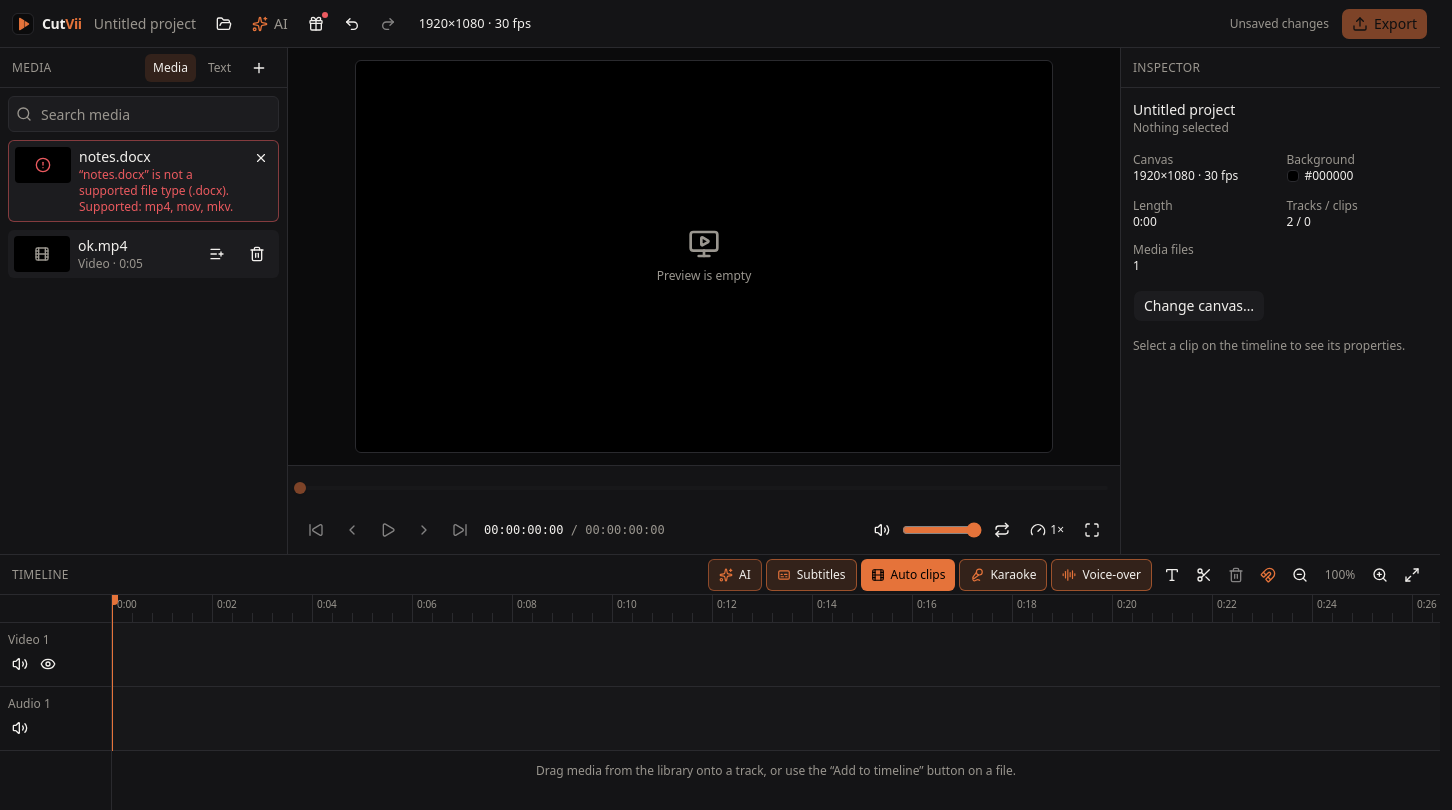
it: OS drag & drop into the library › explains unsupported files and keeps the rest of the drop going
Expected: the list item with test id "import-placeholder" shows "notes.docx", x1=79 y1=147 x2=151 y2=166
Expected: the list item with test id "import-placeholder" shows "is not a supported file type (.docx)", x1=79 y1=166 x2=233 y2=215
Step 1. Click the button named "Dismiss notes.docx" → [261, 158], box x1=250 y1=147 x2=272 y2=169
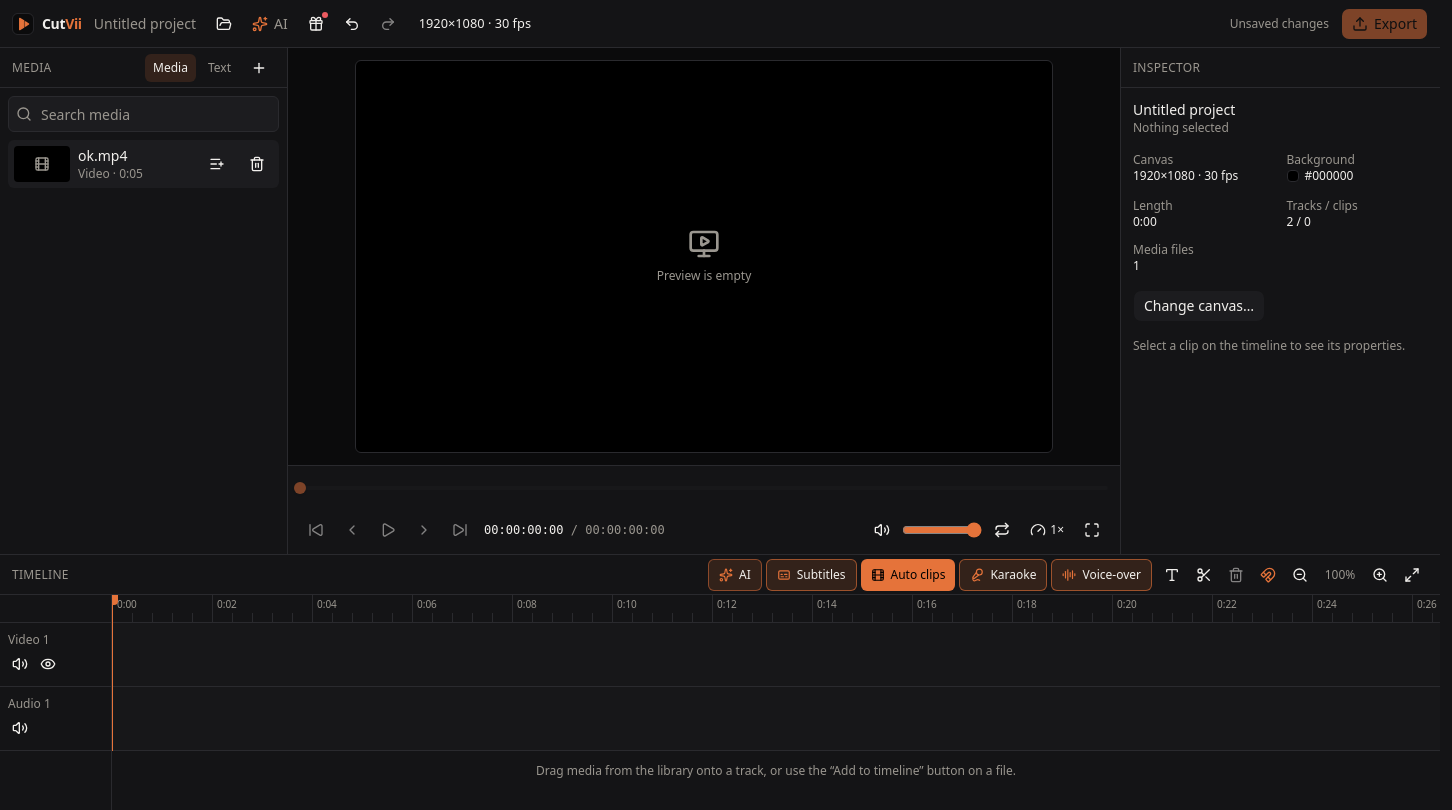
Expected: the list item with test id "import-placeholder" is gone
